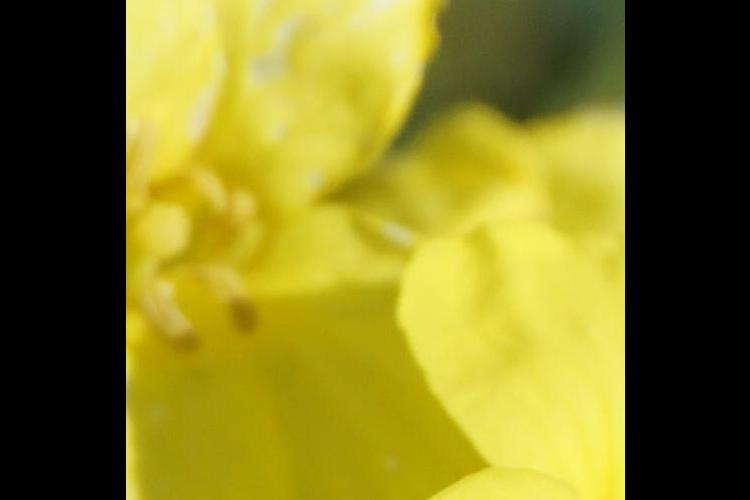yellow: (131, 1, 439, 500), (397, 94, 622, 500)
